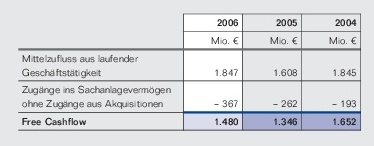table: (0, 0, 374, 146)
